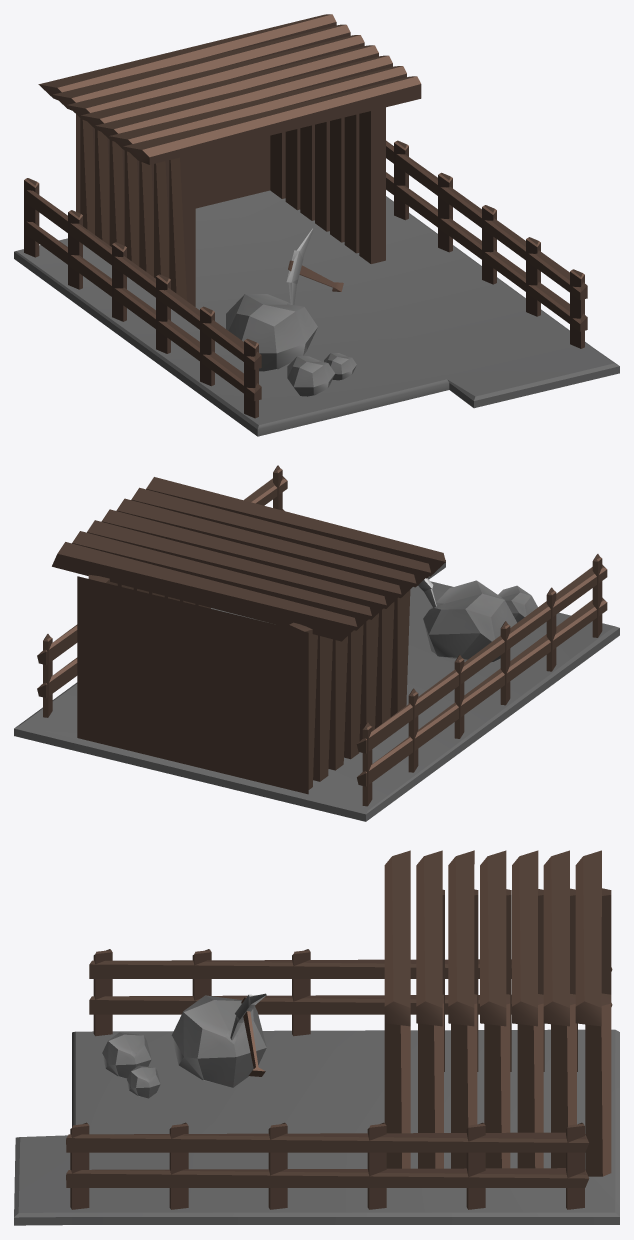
Rendered from mine_0lvl.fbx.
3 views of the same model, one above another, from view 1: azimuth 30°, elevation 25°; view 2: azimuth 150°, elevation 25°; view 3: azimuth 270°, elevation 25° (orthographic). The views are drawn at different scales.
Visible parts, largest first — view 1: mine_0lvl; view 2: mine_0lvl; view 3: mine_0lvl.
Part boxes in pixels (box(x1,y1,x2,y2)): mine_0lvl: box(14, 14, 619, 436); mine_0lvl: box(14, 465, 619, 821); mine_0lvl: box(14, 850, 619, 1225).
Bounding box in the file's own units: 3.98 × 2.06 × 5.5.
1 material, 1 textured.
